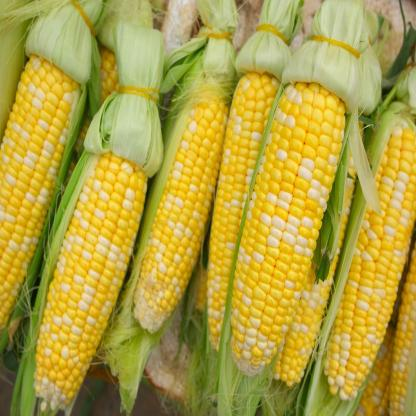---: (27, 143, 157, 416), (228, 74, 344, 378), (0, 45, 99, 335), (331, 107, 416, 416), (138, 71, 228, 341)
